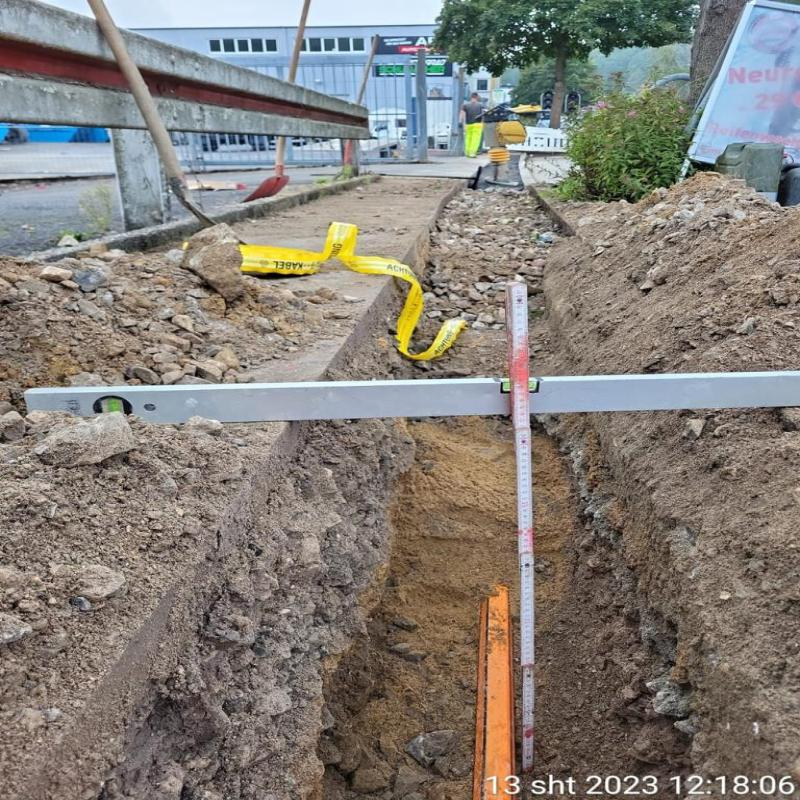Orang-Speednetrohrchen: (472, 584, 515, 800)
